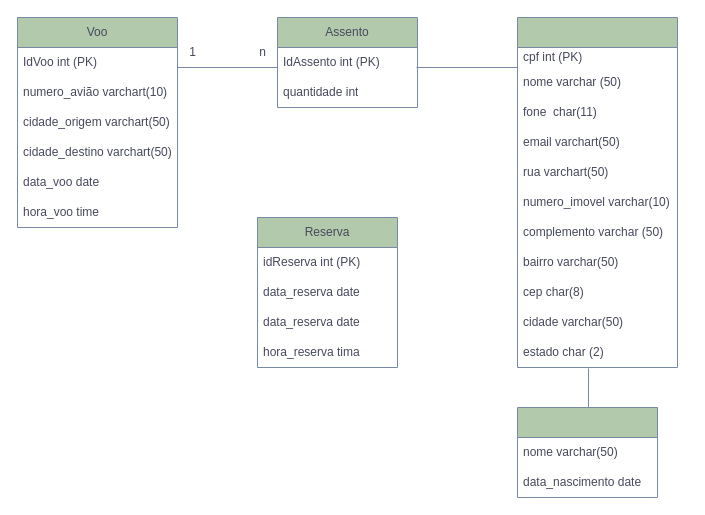
Some shapes in this 705 by 515 pixel diagram are drawn without their labels. Here are the shapes that lost their labels. From the top down, the box of each, then its label:
(516, 16, 678, 368): Passageiro
(516, 406, 658, 498): Dependente
